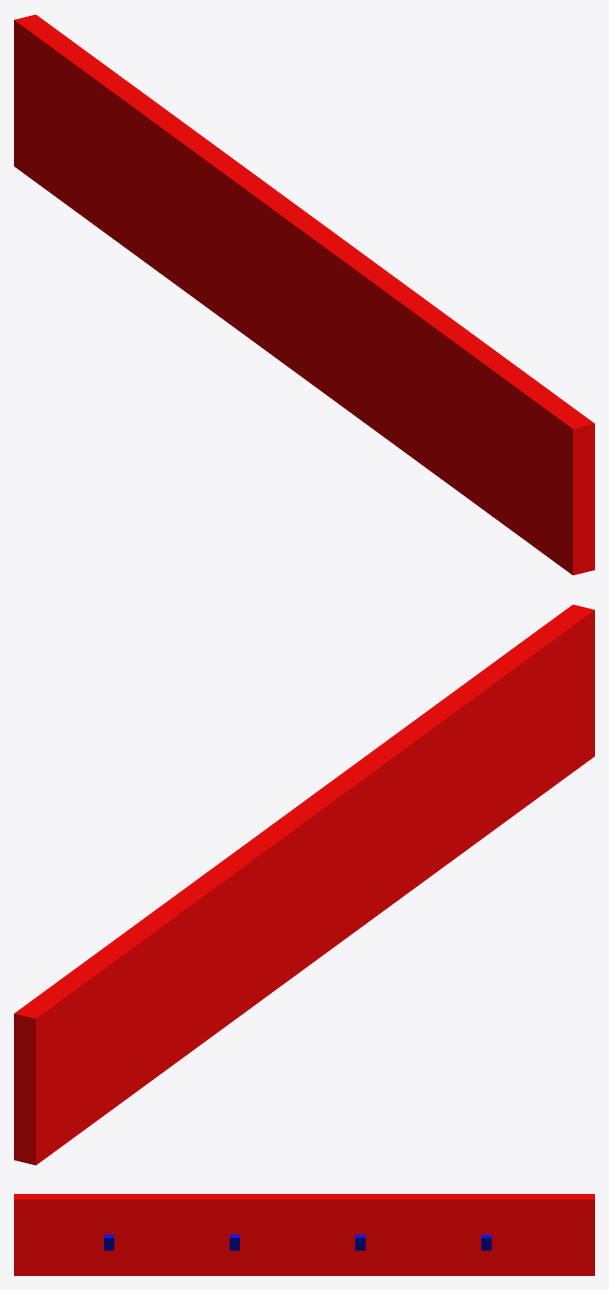
Rendered from Hangger.fbx.
3 views of the same model, one above another, from view 1: azimuth 30°, elevation 25°; view 2: azimuth 150°, elevation 25°; view 3: azimuth 270°, elevation 25° (orthographic). The views are drawn at different scales.
Visible parts, largest first — view 1: Hangger; view 2: Hangger; view 3: Hangger.
Boxes of the visible parts, left/top/right/bottom form: Hangger: left=14, top=14, right=594, bottom=575; Hangger: left=14, top=604, right=594, bottom=1165; Hangger: left=14, top=1194, right=594, bottom=1275.
Size of the model in its own units: 6.89 by 13.89 by 96.09.
